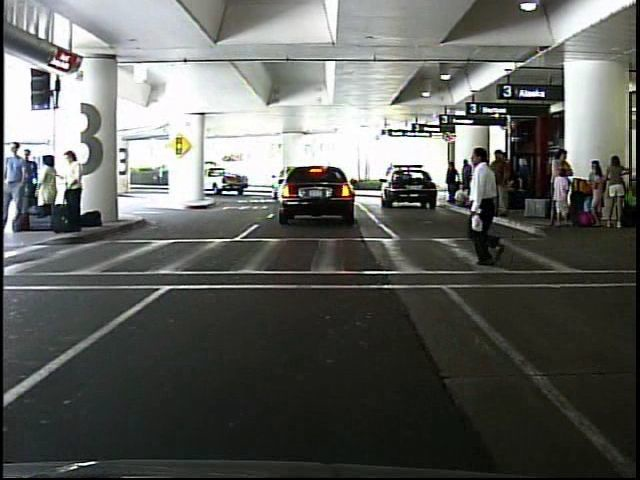person: (459, 136, 521, 276), (5, 142, 36, 237), (37, 151, 64, 229), (67, 146, 90, 235), (443, 161, 458, 205), (153, 161, 166, 189)
